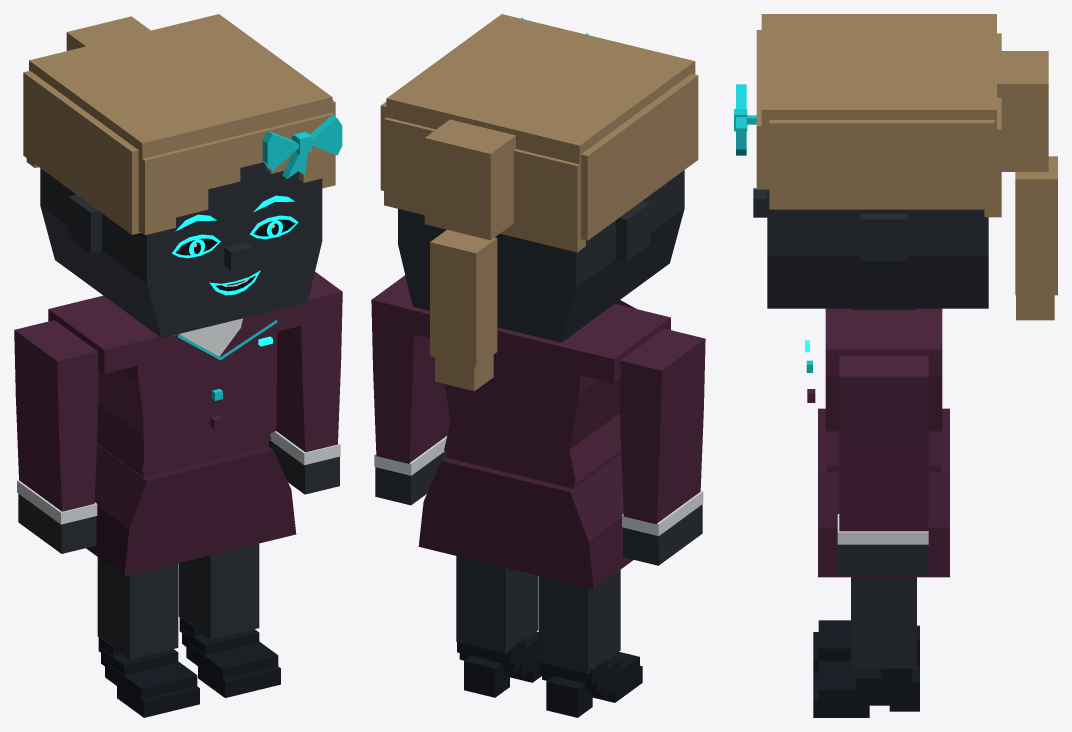
The model's file is agent_female_base_ponytail.glb.
3 views of the same model, side by side, from view 1: azimuth 30°, elevation 25°; view 2: azimuth 150°, elevation 25°; view 3: azimuth 270°, elevation 25° (orthographic). The views are drawn at different scales.
Visible parts, largest first — view 1: char_hair_visual, char_torso_visual, char_head_visual, char_arm_negx_visual, char_leg_negx_visual, char_leg_posx_visual, char_arm_posx_visual, char_bow_visual, char_hand_negx_visual, char_hand_posx_visual, char_eye_posx_visual, char_eye_negx_visual (+1 smaller); view 2: char_hair_visual, char_torso_visual, char_head_visual, char_arm_negx_visual, char_leg_negx_visual, char_arm_posx_visual, char_leg_posx_visual, char_hand_negx_visual, char_hand_posx_visual; view 3: char_hair_visual, char_head_visual, char_arm_posx_visual, char_torso_visual, char_leg_posx_visual, char_hand_posx_visual, char_leg_negx_visual, char_bow_visual.
Part boxes in pixels (x1=…): char_hair_visual: x1=23, y1=14, x2=335, y2=235; char_torso_visual: x1=48, y1=295, x2=308, y2=576; char_head_visual: x1=40, y1=162, x2=322, y2=337; char_arm_negx_visual: x1=14, y1=320, x2=98, y2=524; char_leg_negx_visual: x1=97, y1=557, x2=199, y2=717; char_leg_posx_visual: x1=178, y1=543, x2=280, y2=697; char_arm_posx_visual: x1=270, y1=271, x2=342, y2=465; char_bow_visual: x1=262, y1=114, x2=342, y2=178; char_hand_negx_visual: x1=18, y1=494, x2=96, y2=553; char_hand_posx_visual: x1=268, y1=440, x2=339, y2=494; char_eye_posx_visual: x1=249, y1=215, x2=298, y2=239; char_eye_negx_visual: x1=172, y1=234, x2=220, y2=258; char_hair_visual: x1=380, y1=14, x2=698, y2=391; char_torso_visual: x1=406, y1=300, x2=670, y2=589; char_head_visual: x1=398, y1=170, x2=684, y2=342; char_arm_negx_visual: x1=619, y1=328, x2=705, y2=536; char_leg_negx_visual: x1=538, y1=570, x2=642, y2=717; char_arm_posx_visual: x1=371, y1=275, x2=450, y2=475; char_leg_posx_visual: x1=456, y1=556, x2=541, y2=697; char_hand_negx_visual: x1=623, y1=504, x2=702, y2=565; char_hand_posx_visual: x1=375, y1=451, x2=446, y2=505; char_hair_visual: x1=756, y1=14, x2=1057, y2=320; char_head_visual: x1=753, y1=188, x2=988, y2=310; char_arm_posx_visual: x1=837, y1=356, x2=928, y2=544; char_torso_visual: x1=806, y1=308, x2=949, y2=577; char_leg_posx_visual: x1=813, y1=577, x2=919, y2=717; char_hand_posx_visual: x1=837, y1=544, x2=927, y2=574; char_leg_negx_visual: x1=813, y1=620, x2=919, y2=672; char_bow_visual: x1=734, y1=84, x2=756, y2=155.
Bounding box in the file's own units: 0.88 × 1.77 × 0.834.
